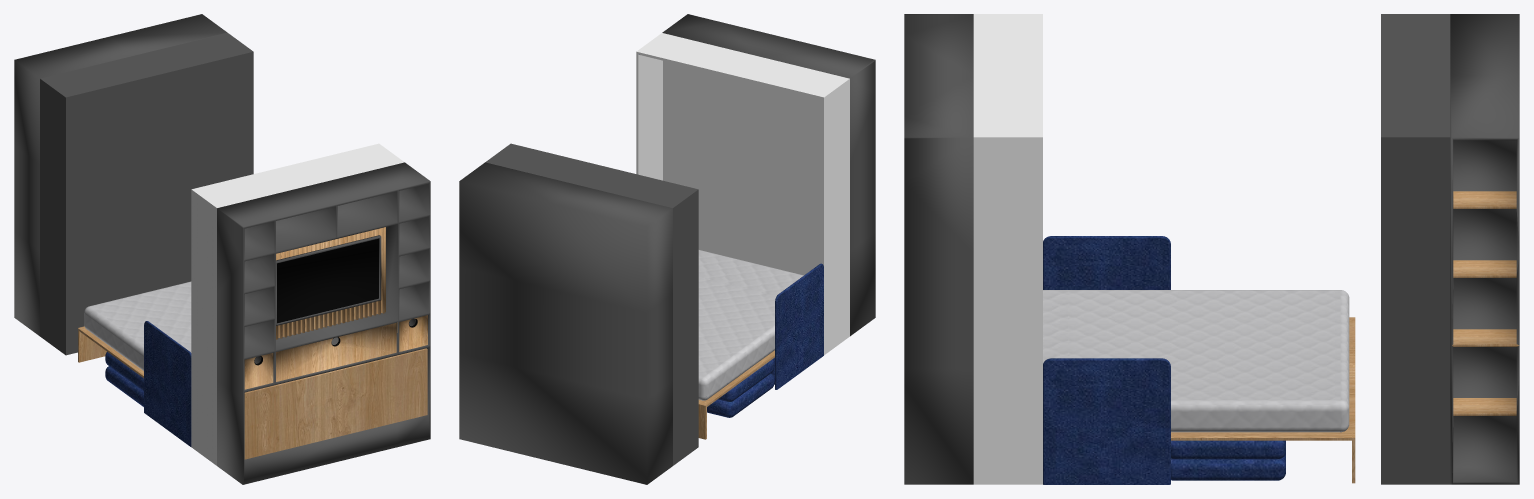
Rendered from bureaum_bedm_kastm_kast.gltf.
3 renders of one model, left to right at view 1: azimuth 30°, elevation 25°; view 2: azimuth 150°, elevation 25°; view 3: azimuth 270°, elevation 25°, orthographic. The views are drawn at different scales.
Visible parts, largest first — view 1: bureaum_bedm_kastm_kast; view 2: bureaum_bedm_kastm_kast; view 3: bureaum_bedm_kastm_kast.
Part boxes in pixels (x1,y1,x2,y2): bureaum_bedm_kastm_kast: (14,14,430,484); bureaum_bedm_kastm_kast: (459,14,875,484); bureaum_bedm_kastm_kast: (904,14,1519,484).
Bounding box in the file's own units: 1690 × 2211 × 3550.
12 materials, 7 textured.
